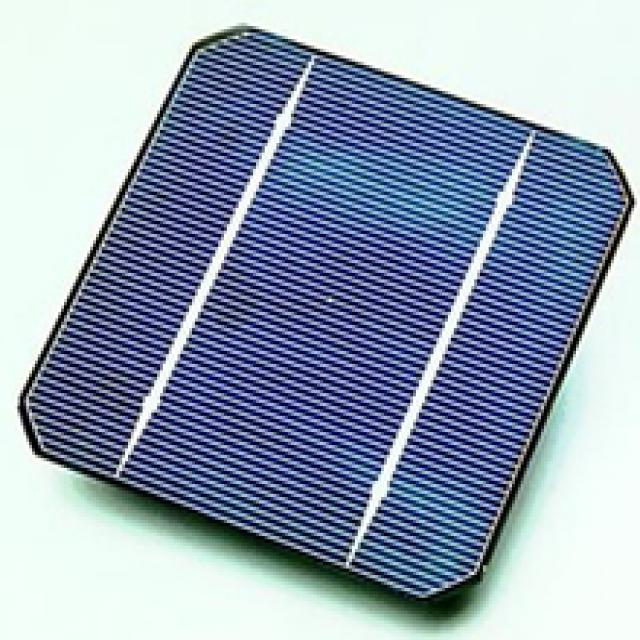no faulty: (15, 29, 630, 614)
